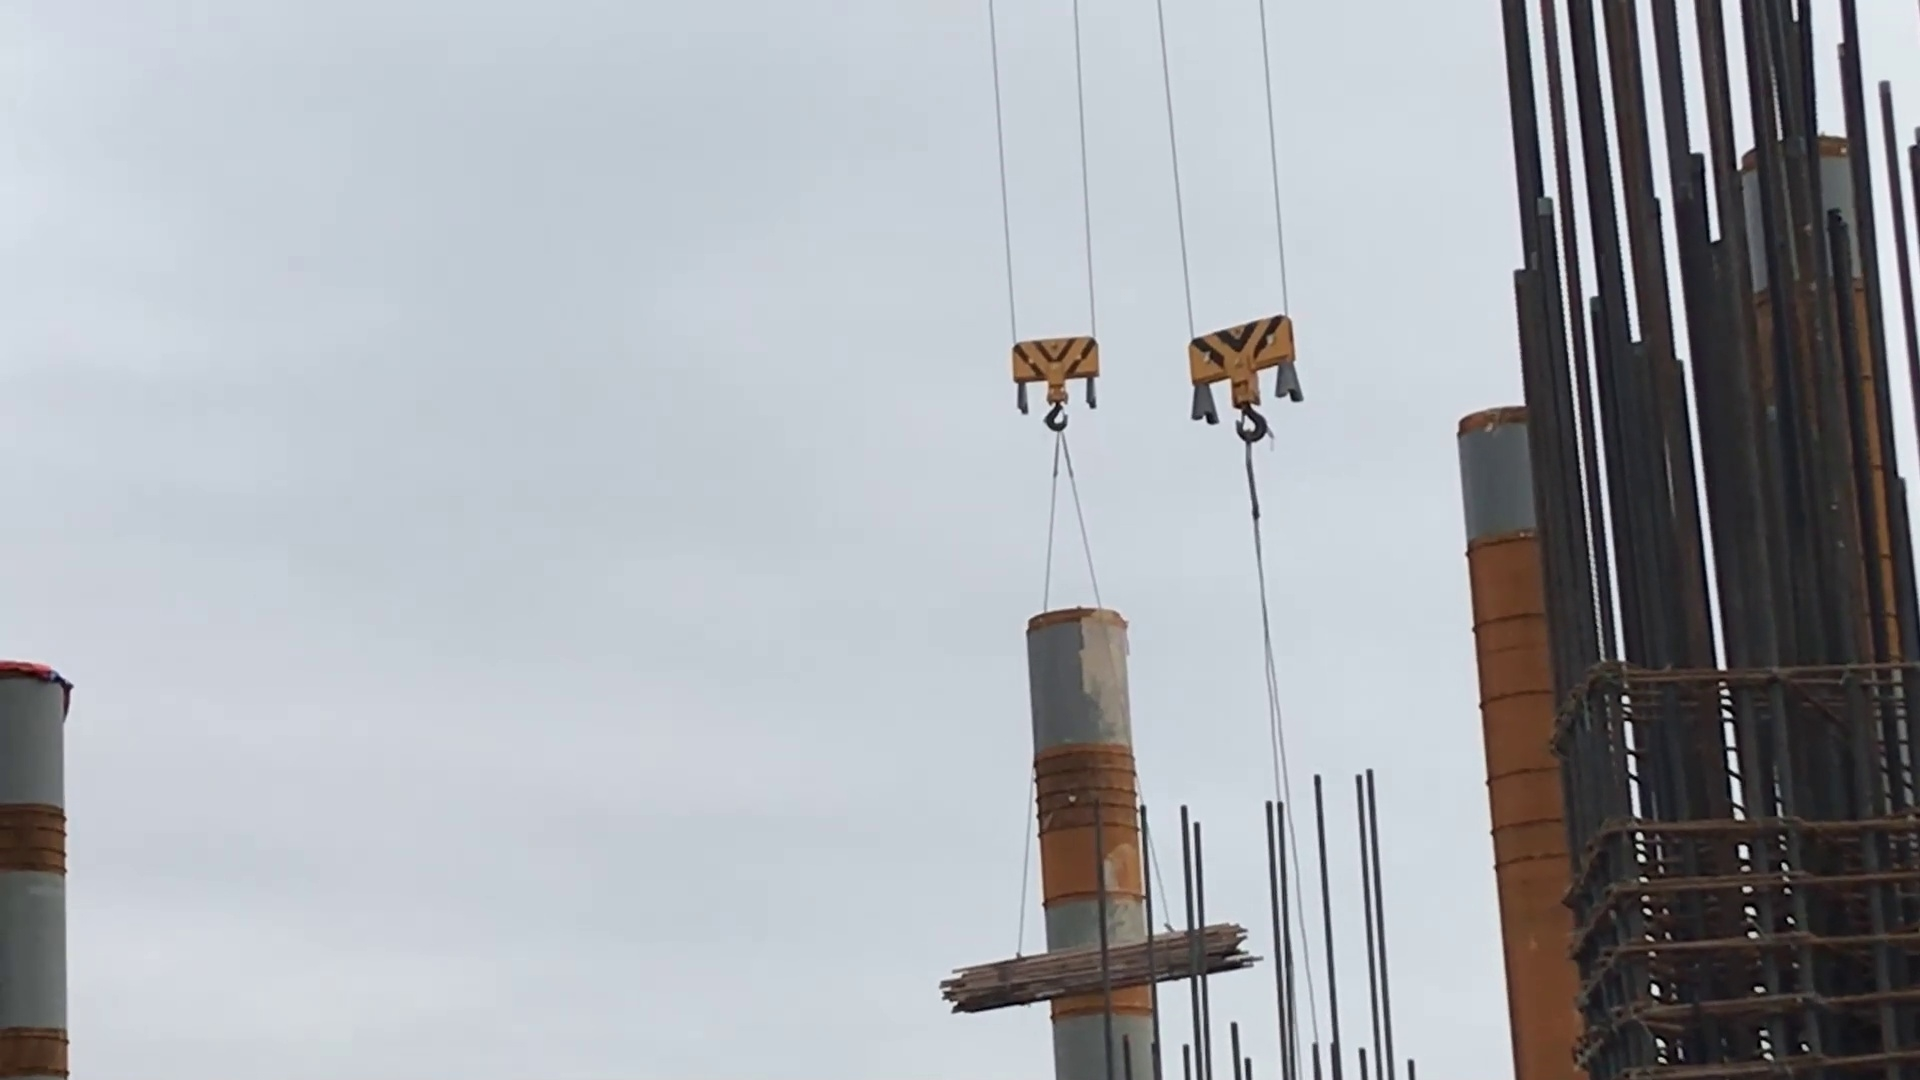hook: (1187, 310, 1305, 447), (1007, 331, 1104, 436)
